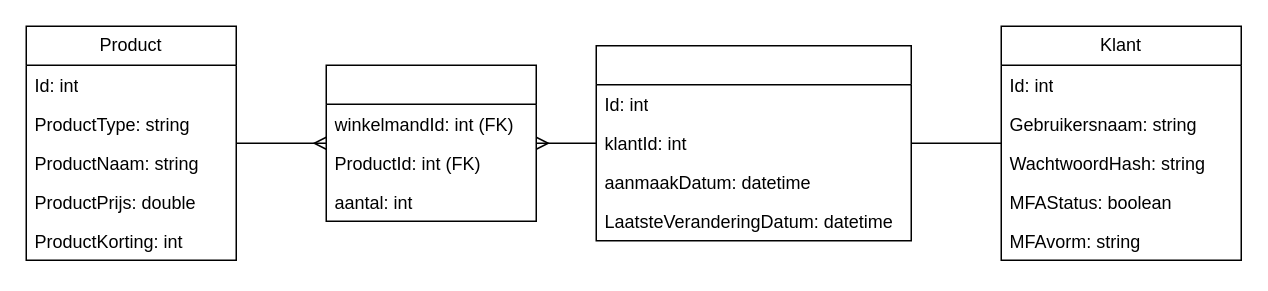
Some shapes in this 1268 by 291 pixel diagram are drawn without their labels. Here are the shapes that lost their labels. From the top down, the box of each, then its label:
(325, 64, 536, 221): winkelmandProduct
(595, 44, 911, 241): Winkelmand
